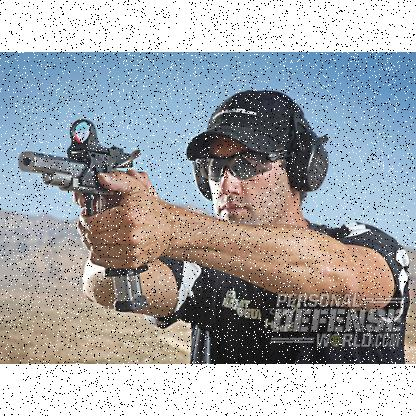gun: (18, 149, 148, 309)
